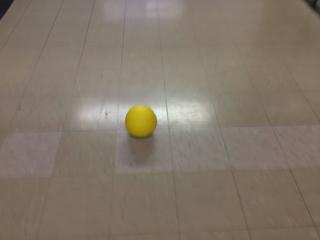power_cell: (123, 103, 166, 141)
